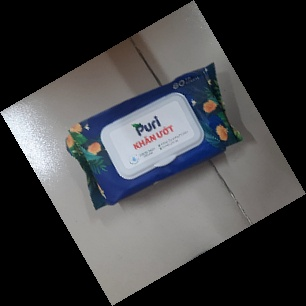Puri Xanh: (58, 59, 245, 216)
